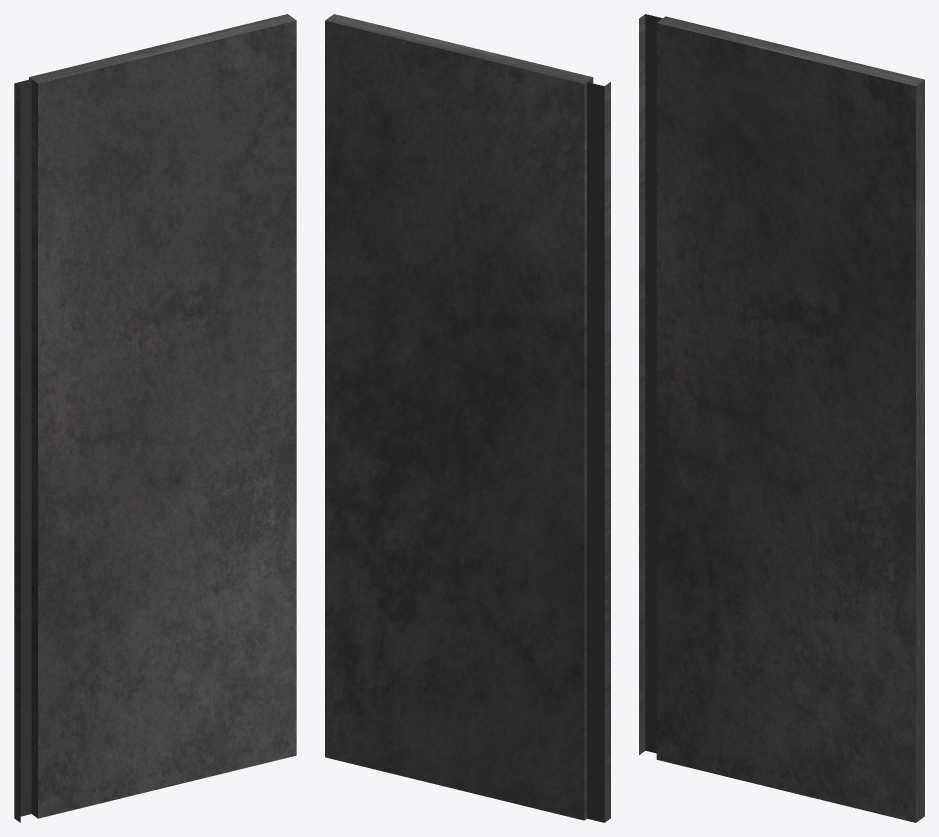
File: elevator_right_door.glb
3 renders of one model, left to right at view 1: azimuth 30°, elevation 25°; view 2: azimuth 150°, elevation 25°; view 3: azimuth 330°, elevation 25°, orthographic.
Parts seen in each view (by area): view 1: Cube.008; view 2: Cube.008; view 3: Cube.008.
Boxes of the visible parts, x1,y1,x2,y2 form: Cube.008: [14, 14, 296, 822]; Cube.008: [325, 14, 610, 822]; Cube.008: [639, 14, 924, 822].
Size of the model in its own units: 0.7931 by 2.02 by 0.0449.
Materials: 2 (1 with a texture image).
